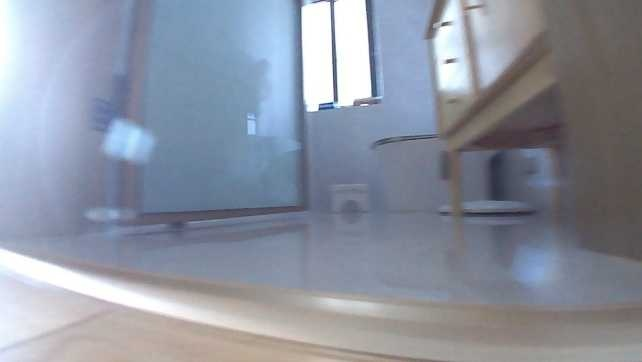chair_base: (437, 168, 536, 216)
door_sill: (3, 244, 640, 361)
plastic_stool: (327, 180, 369, 214)
toilet: (371, 125, 496, 212)
